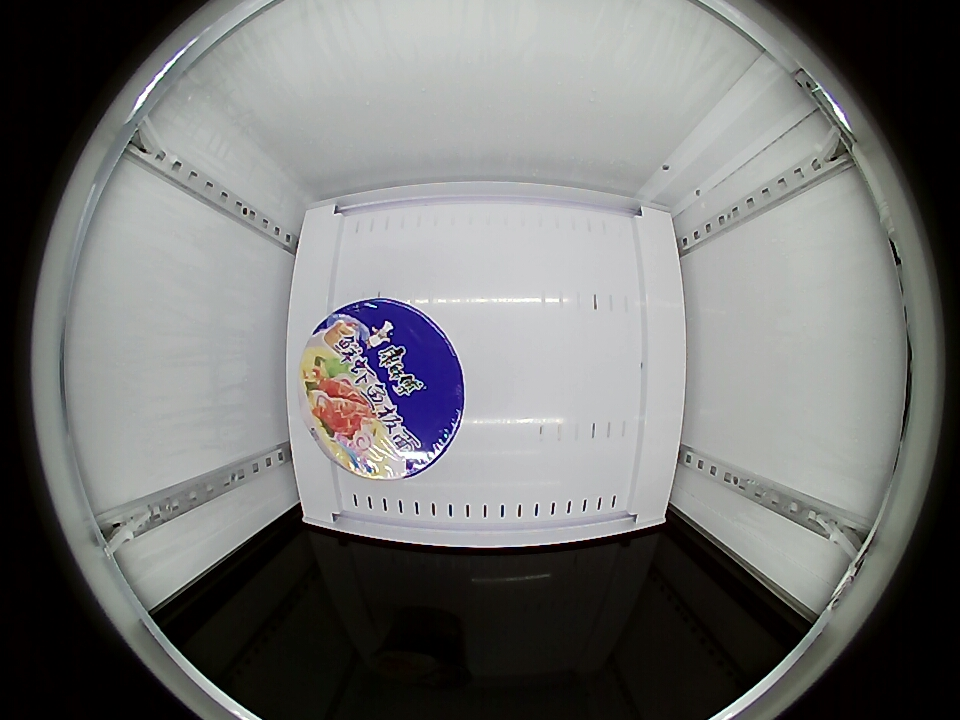xianxiayuban: (299, 298, 464, 481)
